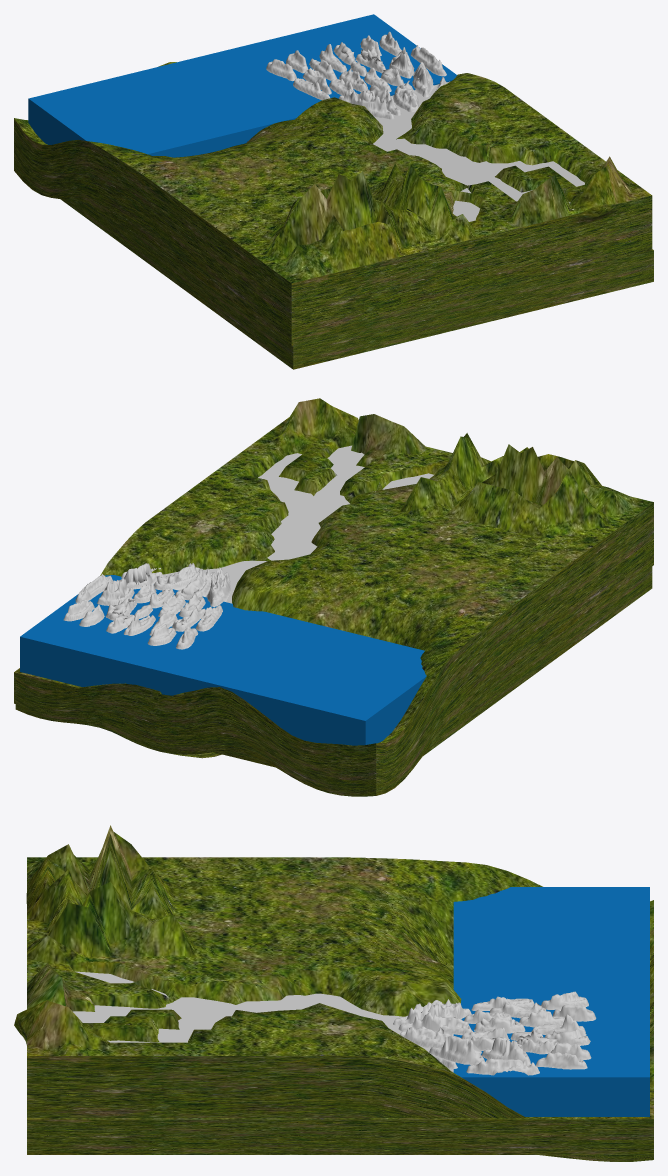
The model's file is 指形三角洲.gltf.
3 renders of one model, top to bottom at view 1: azimuth 30°, elevation 25°; view 2: azimuth 150°, elevation 25°; view 3: azimuth 270°, elevation 25°, orthographic. The views are drawn at different scales.
Parts seen in each view (by area): view 1: node_Box002_-1242, node_Box005_-1246, node_Box003_-1244, node_Plane001_-1252, node_Box006_-1248; view 2: node_Box002_-1242, node_Box005_-1246, node_Plane001_-1252, node_Box006_-1248, node_Box003_-1244; view 3: node_Box002_-1242, node_Box005_-1246, node_Box003_-1244, node_Plane001_-1252, node_Box006_-1248.
Boxes of the visible parts, x1=… form: node_Box002_-1242: x1=14, y1=62, x2=652, y2=346; node_Box005_-1246: x1=28, y1=14, x2=457, y2=157; node_Box003_-1244: x1=61, y1=199, x2=653, y2=369; node_Plane001_-1252: x1=266, y1=31, x2=449, y2=119; node_Box006_-1248: x1=373, y1=88, x2=584, y2=221; node_Box002_-1242: x1=15, y1=398, x2=653, y2=796; node_Box005_-1246: x1=20, y1=575, x2=426, y2=745; node_Plane001_-1252: x1=63, y1=563, x2=232, y2=649; node_Box006_-1248: x1=163, y1=445, x2=433, y2=601; node_Box003_-1244: x1=14, y1=566, x2=652, y2=767; node_Box002_-1242: x1=14, y1=825, x2=653, y2=1161; node_Box005_-1246: x1=453, y1=887, x2=649, y2=1116; node_Box003_-1244: x1=27, y1=952, x2=653, y2=1154; node_Plane001_-1252: x1=393, y1=991, x2=596, y2=1075; node_Box006_-1248: x1=73, y1=971, x2=430, y2=1052.
Bounding box in the file's own units: 1.63 × 0.7865 × 2.21.
